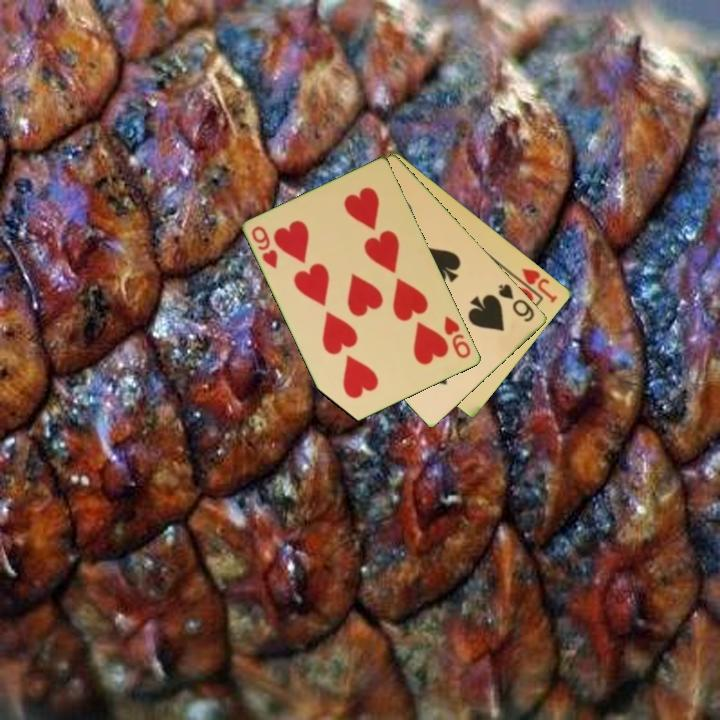6s: (495, 280, 538, 325)
9h: (248, 222, 281, 272), (441, 312, 474, 361)
Jh: (518, 264, 561, 306)
